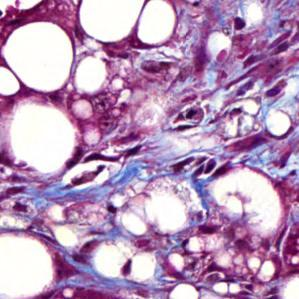steatosis: (1, 22, 79, 92), (138, 1, 178, 50)
